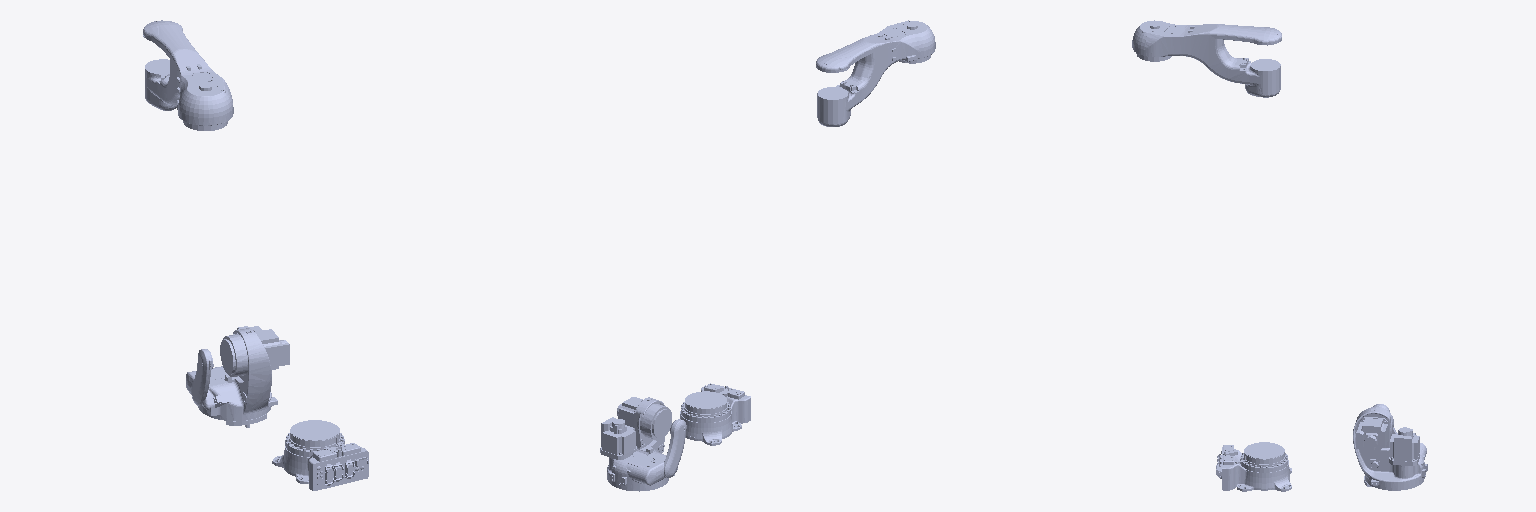
The robot description file, URDF, robot "BU015X":
<?xml version="1.0" encoding="utf-8"?>
<!-- This URDF was automatically created by SolidWorks to URDF Exporter! Originally created by [author] ([email redacted]) 
     Commit Version: 1.6.0-4-g7f85cfe  Build Version: 1.6.7995.38578
     For more information, please see http://wiki.ros.org/sw_urdf_exporter -->
<robot name="BU015X">
  <link name="base_link">
    <inertial>
      <origin xyz="0 0 0" rpy="0 0 0" />
      <mass value="10.0" />
      <inertia ixx="1" ixy="0" ixz="0" iyy="1" iyz="0" izz="1" />
    </inertial>
    <visual>
      <origin xyz="0 0 0" rpy="0 0 0" />
      <geometry>
        <mesh filename="package://BU015X/meshes/base_link.STL" />
      </geometry>
      <material name="">
        <color rgba="0.79216 0.81961 0.93333 1" />
      </material>
    </visual>
    <collision>
      <origin xyz="0 0 0" rpy="0 0 0" />
      <geometry>
        <mesh filename="package://BU015X/meshes/base_link.STL" />
      </geometry>
    </collision>
  </link>
  <link name="link1">
    <inertial>
      <origin xyz="0 0 0.2" rpy="0 0 0" />
      <mass value="10" />
      <inertia ixx="1" ixy="0" ixz="1" iyy="1" iyz="1" izz="1" />
    </inertial>
    <visual>
      <origin xyz="0 0 0" rpy="0 0 0" />
      <geometry>
        <mesh filename="package://BU015X/meshes/link1.STL" />
      </geometry>
      <material name="">
        <color rgba="0.79216 0.81961 0.93333 1" />
      </material>
    </visual>
    <collision>
      <origin xyz="0 0 0" rpy="0 0 0" />
      <geometry>
        <mesh filename="package://BU015X/meshes/link1.STL" />
      </geometry>
    </collision>
  </link>
  <joint name="joint1" type="revolute">
    <origin xyz="0 1 0" rpy="0 0 0" />
    <parent link="base_link" />
    <child link="link1" />
    <axis xyz="0 0 1" />
    <limit lower="1" upper="5" effort="4" velocity="1" />
  </joint>
  <link name="link2">
    <inertial>
      <origin xyz="1 1 1" rpy="0 0 0" />
      <mass value="20" />
      <inertia ixx="1" ixy="0" ixz="1" iyy="1" iyz="0" izz="1" />
    </inertial>
    <visual>
      <origin xyz="0 0 0" rpy="0 0 0" />
      <geometry>
        <mesh filename="package://BU015X/meshes/link2.STL" />
      </geometry>
      <material name="">
        <color rgba="0.79216 0.81961 0.93333 1" />
      </material>
    </visual>
    <collision>
      <origin xyz="0 0 0" rpy="0 0 0" />
      <geometry>
        <mesh filename="package://BU015X/meshes/link2.STL" />
      </geometry>
    </collision>
  </link>
  <joint name="joint2" type="revolute">
    <origin xyz="1 2 3" rpy="0 0 0" />
    <parent link="link1" />
    <child link="link2" />
    <axis xyz="0 0 1" />
    <limit lower="1" upper="2" effort="3" velocity="4" />
  </joint>
</robot>

--- Facts derived from the render (not from the file) ---
The picture shows the robot from 3 angles, left to right: view 1: azimuth 30°, elevation 25°; view 2: azimuth 150°, elevation 25°; view 3: azimuth 270°, elevation 25°; orthographic projection.
Model BU015X with 3 links and 2 joints (2 revolute), rooted at base_link, posed all joints at 0 but 2 set to mid-range because 0 is outside their limits (joint1 = 3, joint2 = 1.5).
Visible links, largest first — view 1: link1, link2, base_link; view 2: link1, link2, base_link; view 3: link2, link1, base_link.
Link boxes in pixels (x1,y1,x2,y2): link1: (186,326,289,427); link2: (143,20,233,130); base_link: (272,420,368,490); link1: (600,397,686,491); link2: (816,20,935,126); base_link: (680,383,750,445); link2: (1132,20,1281,97); link1: (1353,404,1427,490); base_link: (1216,442,1291,491).
Bounding box of the posed robot: 1.71 × 2.26 × 3.33 m (x, y, z).
3 mesh visuals loaded from 3 distinct referenced files (3 binary STL).